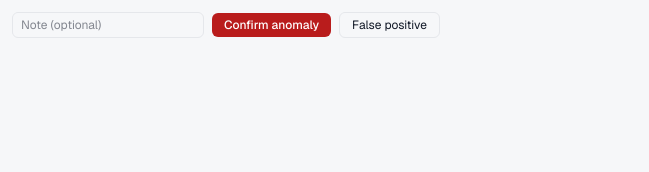
Test: anomalies › shows a refused verdict and keeps the buttons
The width and height of the screenshot is (649, 172).
Click the button "Confirm anomaly": (272, 25) [212,13,331,37]
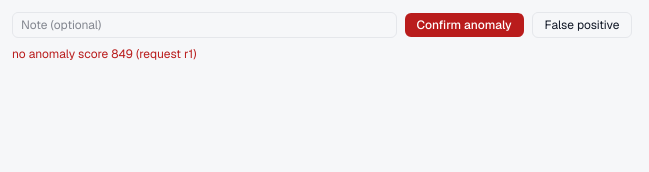
Expected: the button "Confirm anomaly" is shown, [404,13,524,37]
Result: the message reads "no anomaly score 849 (request r1)" at [12,46,196,62]
